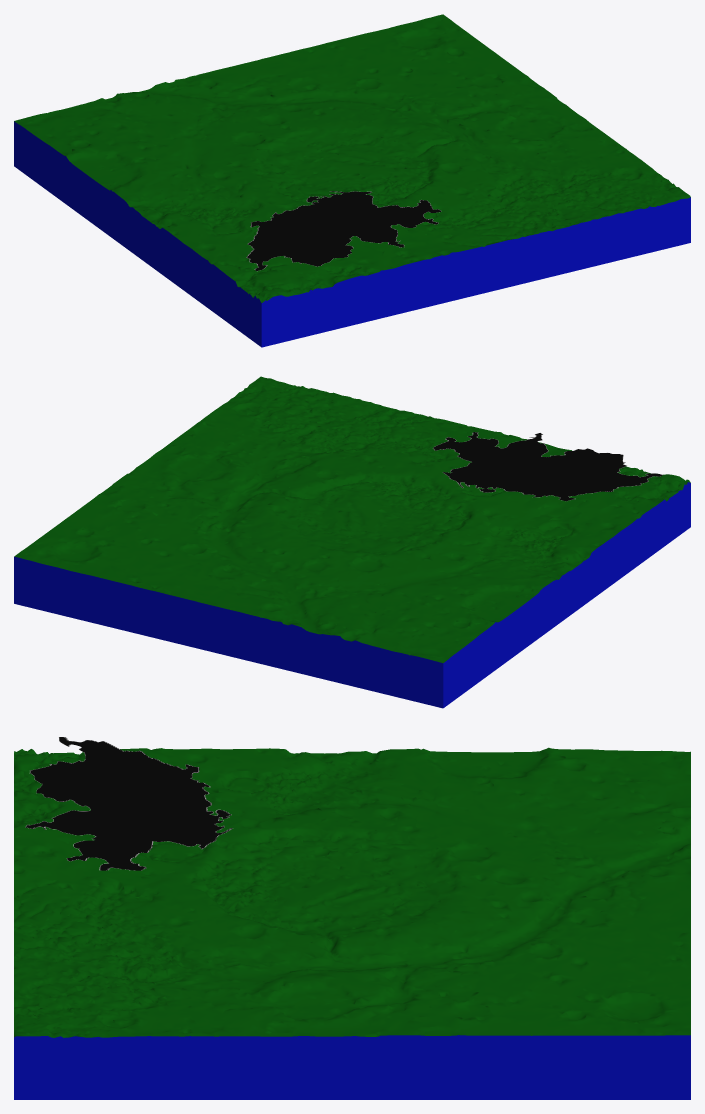
The model's file is Aram_Chaos_LP_plus.fbx.
The picture shows the model from 3 angles, top to bottom: view 1: azimuth 30°, elevation 25°; view 2: azimuth 150°, elevation 25°; view 3: azimuth 270°, elevation 25°; orthographic projection. The views are drawn at different scales.
Visible parts, largest first — view 1: LP, Comparison; view 2: LP, Comparison; view 3: LP, Comparison.
Part boxes in pixels (x1=…): LP: x1=14, y1=14, x2=690, y2=347; Comparison: x1=246, y1=191, x2=441, y2=271; LP: x1=14, y1=376, x2=690, y2=708; Comparison: x1=433, y1=432, x2=662, y2=501; LP: x1=14, y1=747, x2=690, y2=1099; Comparison: x1=25, y1=737, x2=232, y2=870.
Bounding box in the file's own units: 7497 × 1027 × 7495.
